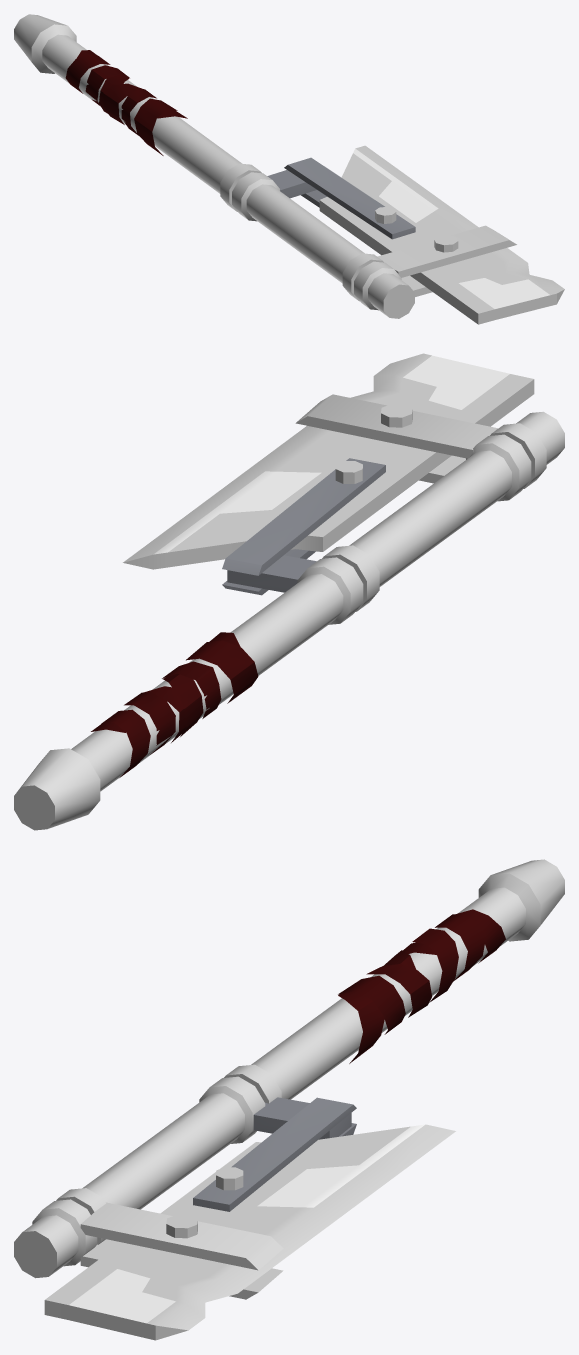
Rendered from Axe.glb.
3 views of the same model, one above another, from view 1: azimuth 30°, elevation 25°; view 2: azimuth 150°, elevation 25°; view 3: azimuth 330°, elevation 25° (orthographic). The views are drawn at different scales.
Visible parts, largest first — view 1: Axe; view 2: Axe; view 3: Axe.
Part boxes in pixels (x1,y1,x2,y2): Axe: (14, 14, 564, 324); Axe: (14, 353, 564, 830); Axe: (14, 859, 564, 1340).
Bounding box in the file's own units: 0.3006 × 0.0875 × 1.3.
